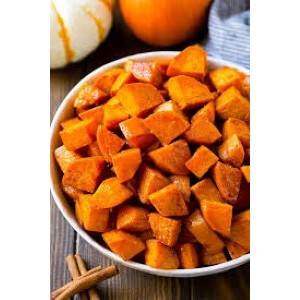sweet potato_brain food: (96, 110, 180, 197)
